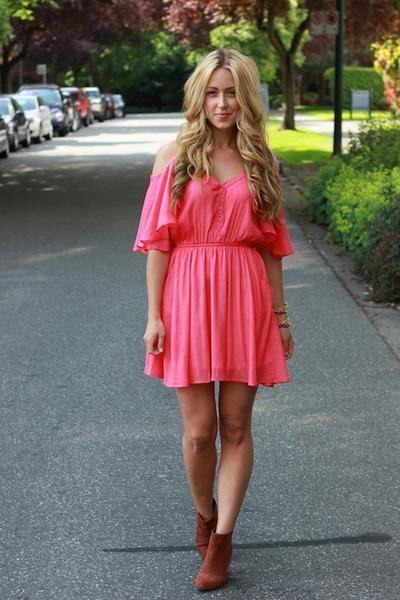dress: (133, 159, 291, 386)
shoe: (193, 527, 235, 594)
